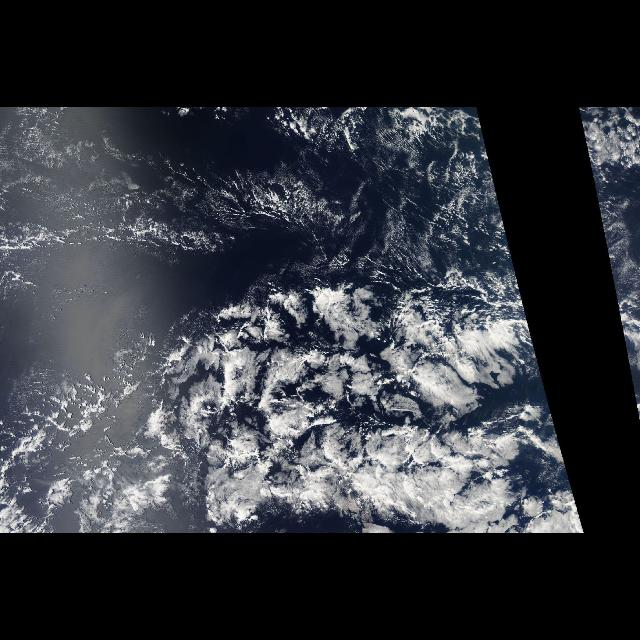Flower: (24, 262, 522, 428)
Sugar: (276, 125, 498, 273)
